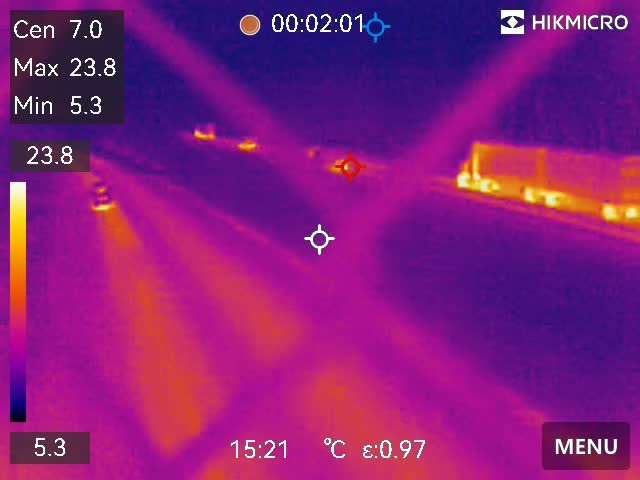heavyTruck: (450, 130, 640, 224), (189, 120, 220, 139)
